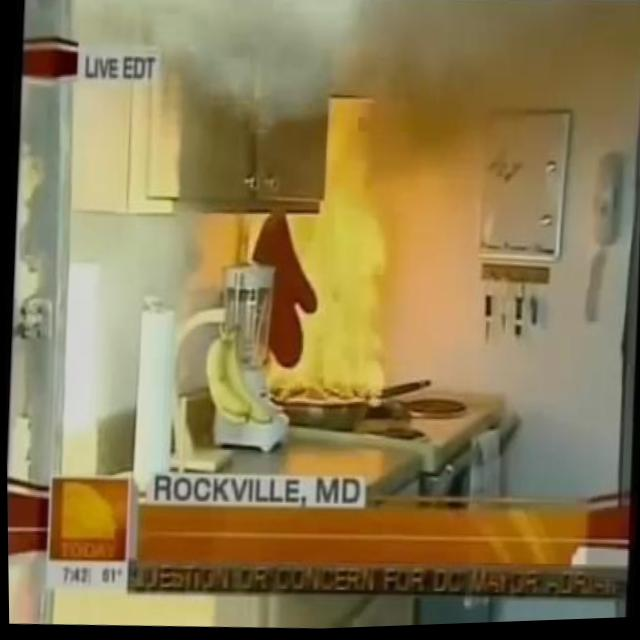fire: (255, 84, 401, 408)
